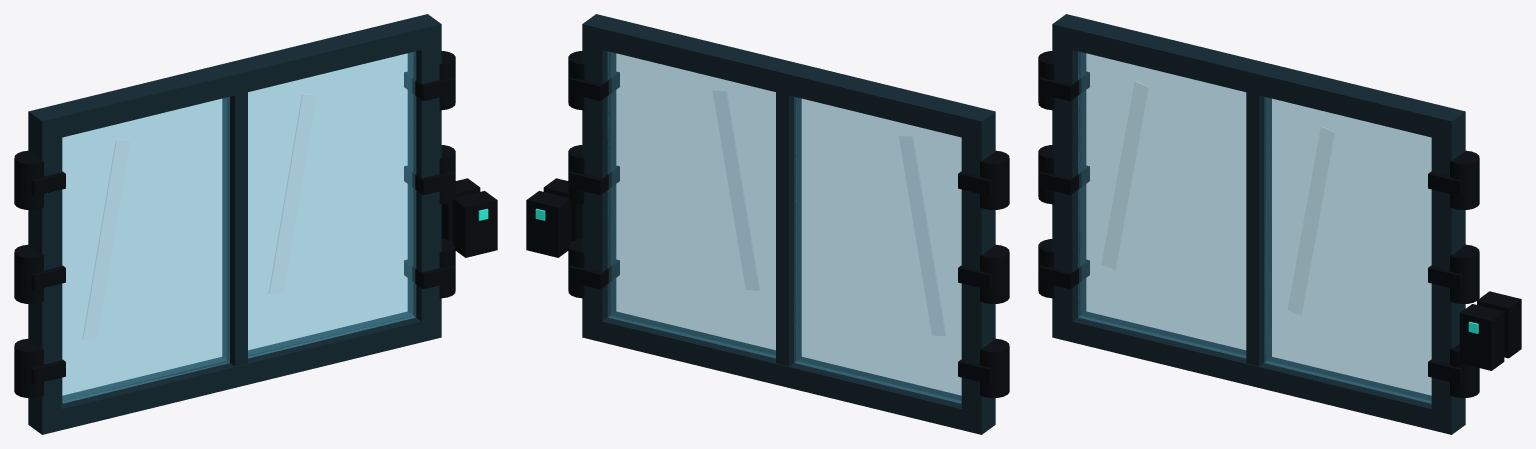
File: screen_window_2pan_1level.glb
3 renders of one model, left to right at view 1: azimuth 30°, elevation 25°; view 2: azimuth 150°, elevation 25°; view 3: azimuth 330°, elevation 25°, orthographic.
Parts seen in each view (by area): view 1: Glass_Pane_2, Glass_Pane_1, Frame_Top, Frame_Bottom, Frame_Right, Mullion_1, Frame_Left, Reflection_Stripe_2, Reflection_Stripe_1, Control_Front_Box, Hinge_Left_0.2, Hinge_Left_0.8 (+11 smaller); view 2: Glass_Pane_2, Glass_Pane_1, Frame_Top, Frame_Bottom, Frame_Right, Mullion_1, Frame_Left, Control_Back_Box, Hinge_Left_0.2, Hinge_Left_0.8, Hinge_Left_0.5, Hinge_Brace_1_0.2 (+9 smaller); view 3: Glass_Pane_1, Glass_Pane_2, Frame_Top, Frame_Bottom, Frame_Left, Mullion_1, Frame_Right, Reflection_Stripe_1, Reflection_Stripe_2, Control_Front_Box, Hinge_Right_0.5, Hinge_Right_0.8 (+11 smaller).
Part boxes in pixels (left/top/right/bottom): Glass_Pane_2: left=248, top=51, right=415, bottom=358; Glass_Pane_1: left=62, top=97, right=229, bottom=403; Frame_Top: left=28, top=14, right=441, bottom=142; Frame_Bottom: left=28, top=311, right=441, bottom=434; Frame_Right: left=407, top=45, right=441, bottom=321; Mullion_1: left=222, top=92, right=247, bottom=366; Frame_Left: left=28, top=132, right=62, bottom=413; Reflection_Stripe_2: left=269, top=94, right=315, bottom=293; Reflection_Stripe_1: left=83, top=140, right=129, bottom=339; Control_Front_Box: left=453, top=191, right=497, bottom=257; Hinge_Left_0.2: left=14, top=338, right=43, bottom=398; Hinge_Left_0.8: left=14, top=150, right=43, bottom=209; Glass_Pane_2: left=607, top=51, right=775, bottom=358; Glass_Pane_1: left=794, top=97, right=961, bottom=403; Frame_Top: left=582, top=14, right=995, bottom=142; Frame_Bottom: left=582, top=311, right=995, bottom=434; Frame_Right: left=582, top=45, right=616, bottom=321; Mullion_1: left=776, top=92, right=801, bottom=366; Frame_Left: left=961, top=132, right=995, bottom=413; Control_Back_Box: left=526, top=191, right=570, bottom=257; Hinge_Left_0.2: left=980, top=338, right=1009, bottom=398; Hinge_Left_0.8: left=980, top=150, right=1009, bottom=209; Hinge_Left_0.5: left=980, top=244, right=1009, bottom=303; Hinge_Brace_1_0.2: left=568, top=260, right=619, bottom=289; Glass_Pane_1: left=1078, top=51, right=1246, bottom=358; Glass_Pane_2: left=1264, top=97, right=1431, bottom=403; Frame_Top: left=1052, top=14, right=1465, bottom=142; Frame_Bottom: left=1052, top=311, right=1465, bottom=434; Frame_Left: left=1052, top=45, right=1086, bottom=321; Mullion_1: left=1246, top=92, right=1271, bottom=366; Frame_Right: left=1431, top=132, right=1465, bottom=413; Reflection_Stripe_1: left=1102, top=81, right=1148, bottom=269; Reflection_Stripe_2: left=1288, top=127, right=1334, bottom=314; Control_Front_Box: left=1459, top=304, right=1504, bottom=370; Hinge_Right_0.5: left=1450, top=244, right=1479, bottom=303; Hinge_Right_0.8: left=1450, top=150, right=1479, bottom=209.
Bounding box in the file's own units: 2.33 × 1.5 × 0.3008.
